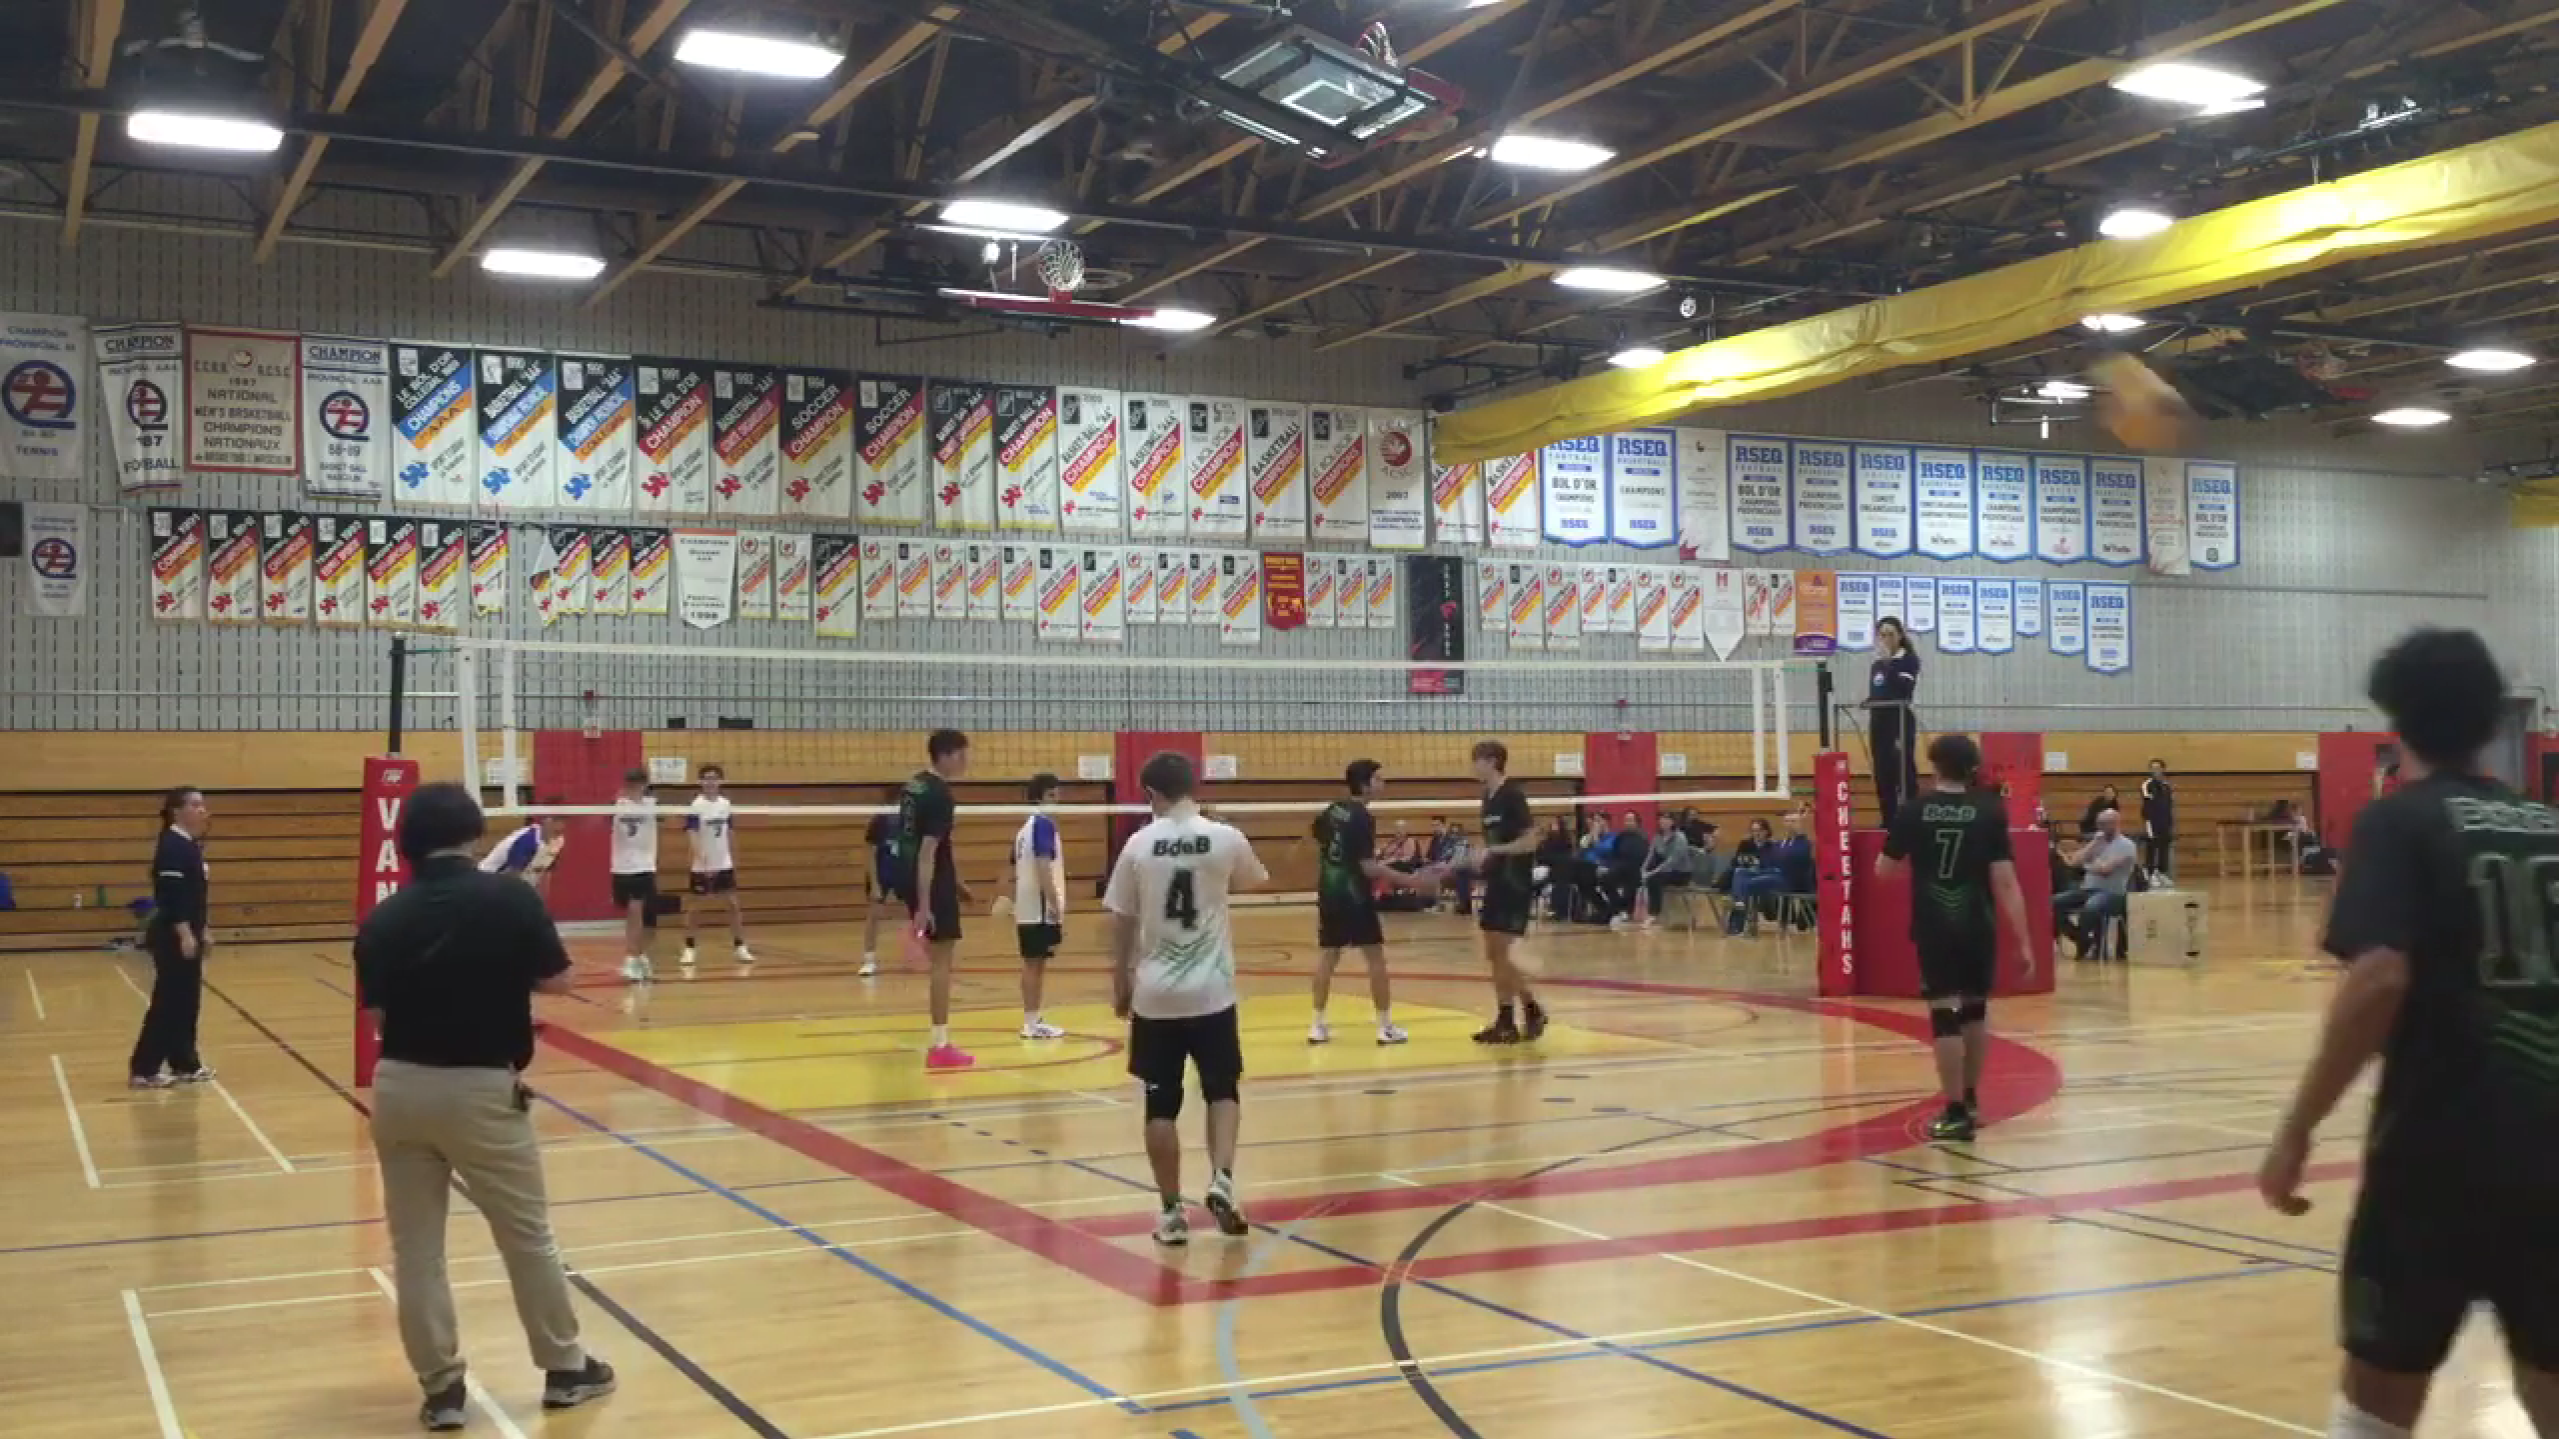Ball: (2090, 348, 2192, 455)
